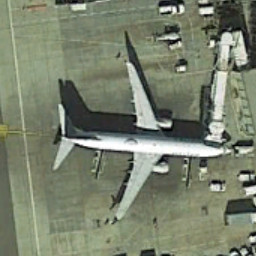Airplane: (41, 51, 233, 234)
